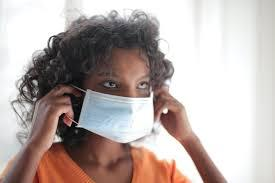Wore Mask Incorrectly: (38, 18, 189, 147)
